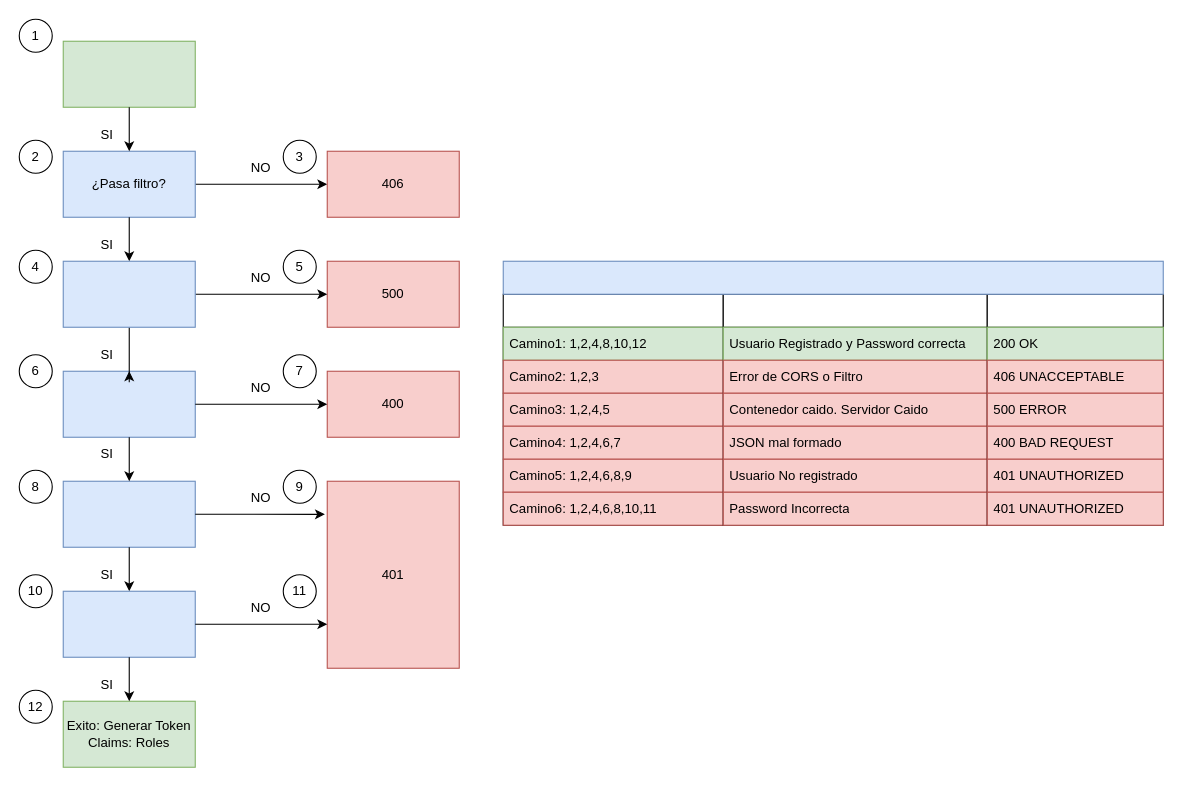
Image size: 1183x787. Some labels were removed from this diagram. The box of each missing label's shape, as (x1, y1, x2, y2) in pixels:
COMPLEJIDAD CICLOMATICA: M = C +1 => 5 + 1 == 6: (502, 260, 1163, 294)
Equivalencia: (722, 293, 987, 525)
Itinerario: (502, 293, 723, 525)
Recibe Datos: username y password: (62, 40, 195, 107)
Resultado esperado: (986, 293, 1163, 525)
¿Conexión a database OK?: (62, 260, 195, 327)
¿Contraseña correcta?: (62, 590, 195, 657)
¿El usuario existe?: (62, 480, 195, 547)
¿Formato valido?: (62, 370, 195, 437)
